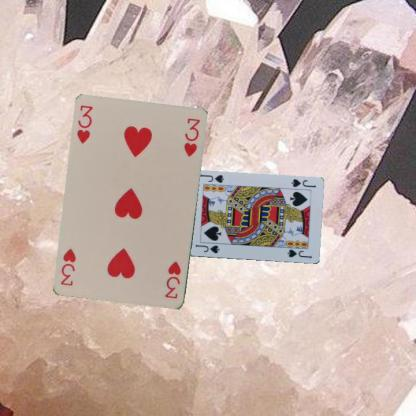3h: (162, 258, 183, 300), (74, 102, 94, 145)
Js: (288, 176, 317, 189), (193, 242, 220, 255)
